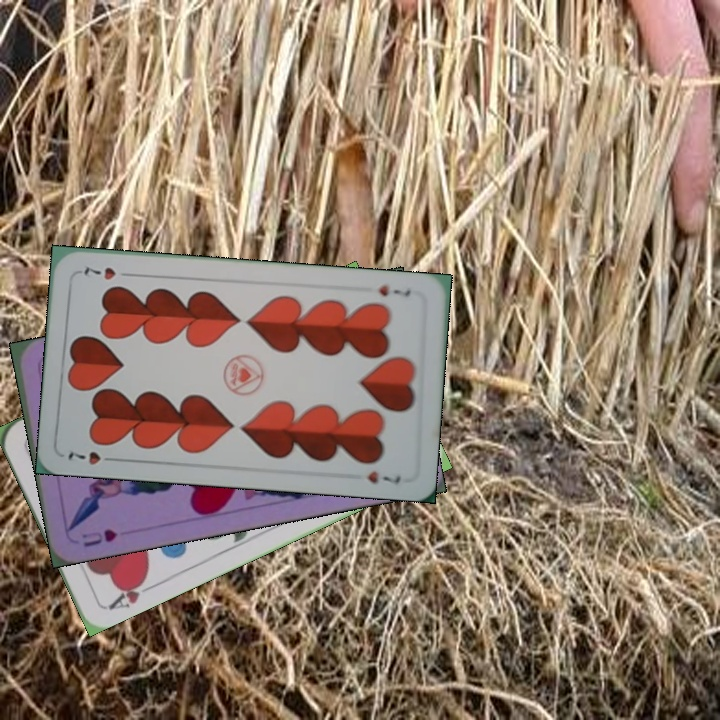H7: (63, 447, 121, 468), (375, 281, 413, 300)
HA: (104, 571, 159, 613)
HU: (78, 525, 120, 550)
